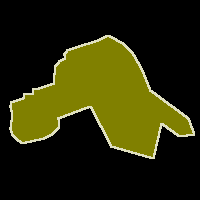tie: (10, 36, 194, 158)
